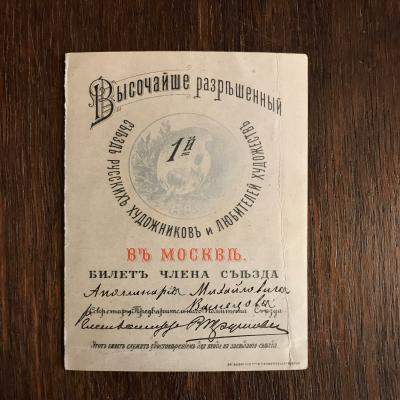document: (63, 51, 309, 375)
